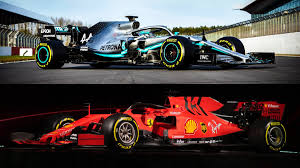FormulaOneCar: (3, 90, 292, 159), (29, 14, 276, 75)
